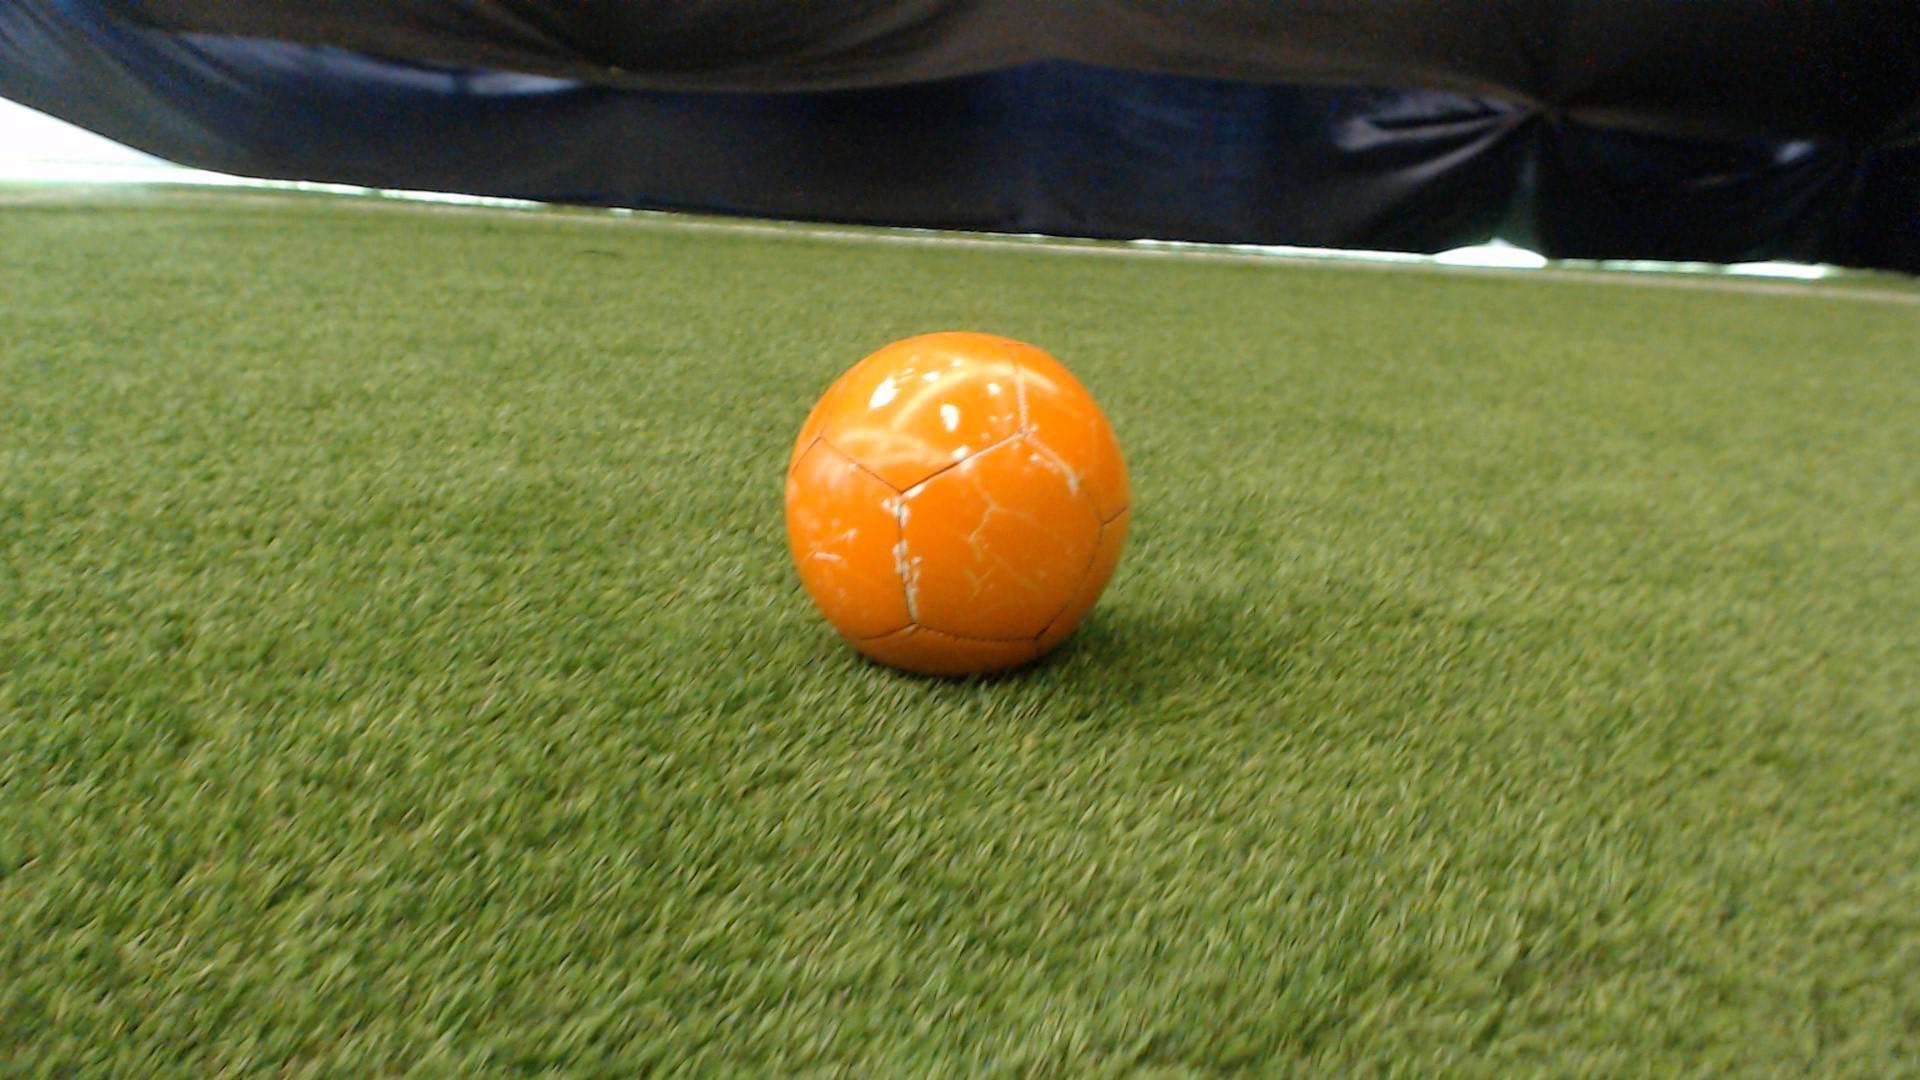bola: (766, 323, 1147, 692)
